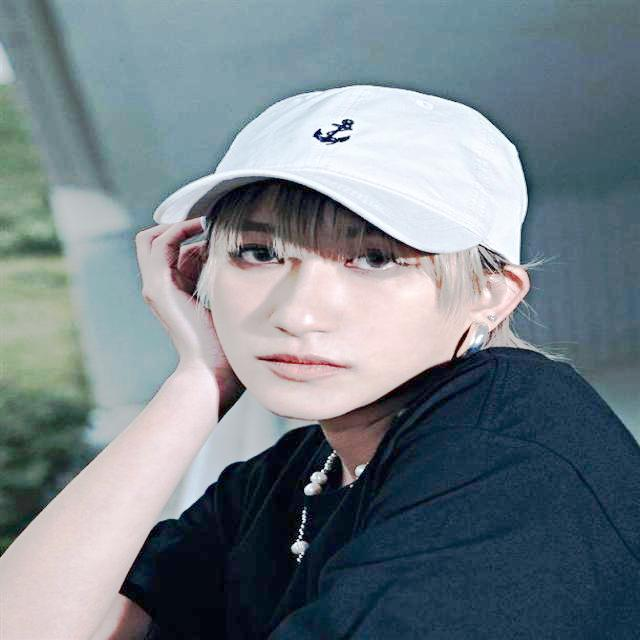TOPI: (152, 80, 536, 280)
